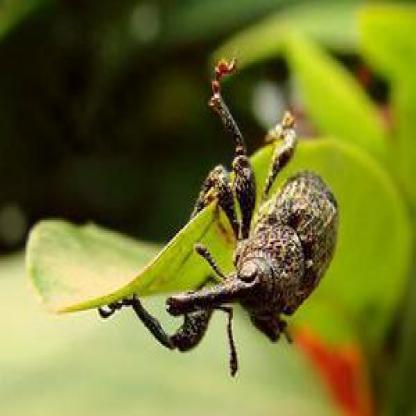rice-bug: (168, 121, 341, 378)
